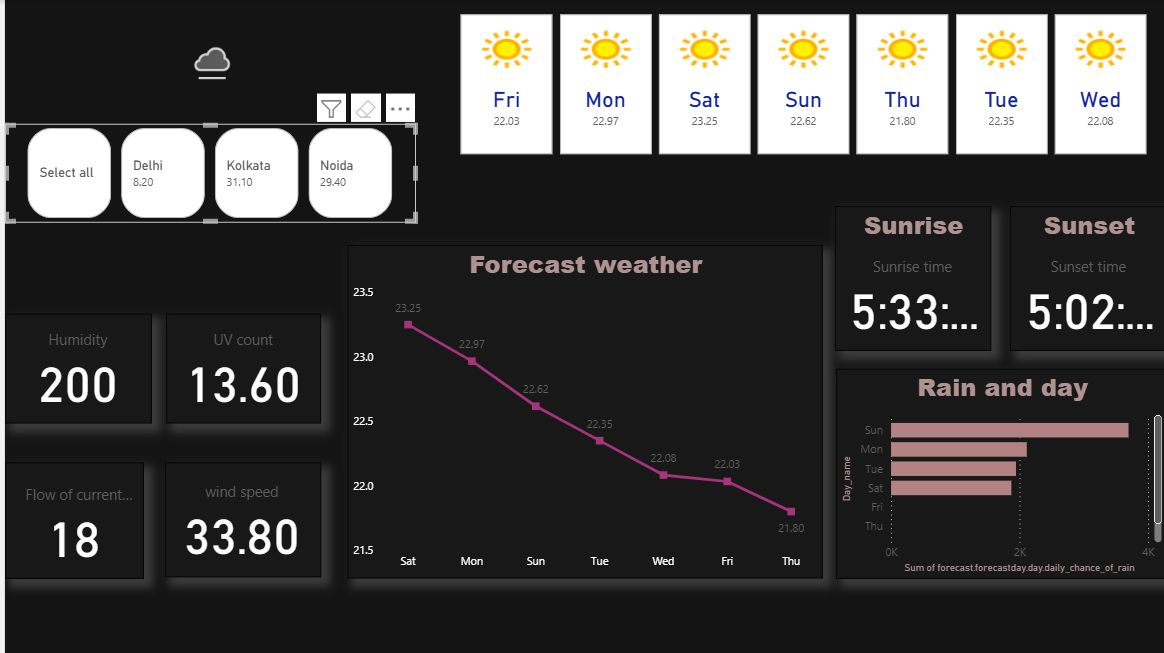

The page's visual inventory and layout, read from the dashboard file:
{"tool":"powerbi","page":{"name":"Page 1","canvas":[1280,720],"ordinal":0},"visuals":[{"type":"advancedSlicerVisual","fields":{"Values":["location.location.name"]},"box":[0,135.8,452.8,109.8],"z":0},{"type":"cardVisual","fields":{"Data":["Min(Current.current.condition.icon)"]},"box":[176.2,11,104.6,81.2],"z":3000},{"type":"cardVisual","fields":{"Data":["Sum(Current.current.humidity)"]},"box":[0,345.8,161.9,120.8],"z":4000},{"type":"cardVisual","fields":{"Data":["Sum(Current.current.vis_km)"]},"box":[0,509,152.8,127.6],"z":5000},{"type":"cardVisual","fields":{"Data":["Sum(Current.current.uv)"]},"box":[177,345.8,170.2,120.8],"z":6000},{"type":"cardVisual","fields":{"Data":["Sum(Current.current.wind_kph)"]},"box":[176.2,509.4,172.1,126.7],"z":7000},{"type":"advancedSlicerVisual","fields":{"Values":["Forecast_Day.Day_name"]},"box":[496.9,10.4,765.5,164.1],"z":8000},{"type":"lineChart","title":"Forecast weather ","fields":{"Category":["Forecast_Day.Day_name"],"Y":["Avg(Forecast_Day.forecast.forecastday.day.avgtemp_c)"]},"box":[377.2,269.8,523.1,367.6],"z":9000},{"type":"cardVisual","title":"Sunrise ","fields":{"Data":["Min(Forecast_Day.forecast.forecastday.astro.sunrise)"]},"box":[914.5,227.4,171.8,159],"z":10000},{"type":"cardVisual","title":"Sunset","fields":{"Data":["Min(Forecast_Day.forecast.forecastday.astro.sunset)"]},"box":[1107,227.4,173.4,159],"z":11000},{"type":"clusteredBarChart","title":"Rain  and day","fields":{"Y":["Sum(Forecast_Day.forecast.forecastday.day.daily_chance_of_rain)"],"Category":["Forecast_Day.Day_name"]},"box":[914.1,406.1,364.8,231.3],"z":12000}]}

Visuals, with their boxes in screenshot pixels (x1, y1, x2, y2), scaled from the page's 1280x720 canvas onto the 1164x653 screenshot:
advancedSlicerVisual - location.location.name: 0/123/412/223
cardVisual - Min(Current.current.condition.icon): 160/10/255/84
cardVisual - Sum(Current.current.humidity): 0/314/147/423
cardVisual - Sum(Current.current.vis_km): 0/462/139/577
cardVisual - Sum(Current.current.uv): 161/314/316/423
cardVisual - Sum(Current.current.wind_kph): 160/462/317/577
advancedSlicerVisual - Forecast_Day.Day_name: 452/9/1148/158
"Forecast weather " lineChart: 343/245/819/578
"Sunrise " cardVisual: 832/206/988/350
"Sunset" cardVisual: 1007/206/1163/350
"Rain  and day" clusteredBarChart: 831/368/1163/578
